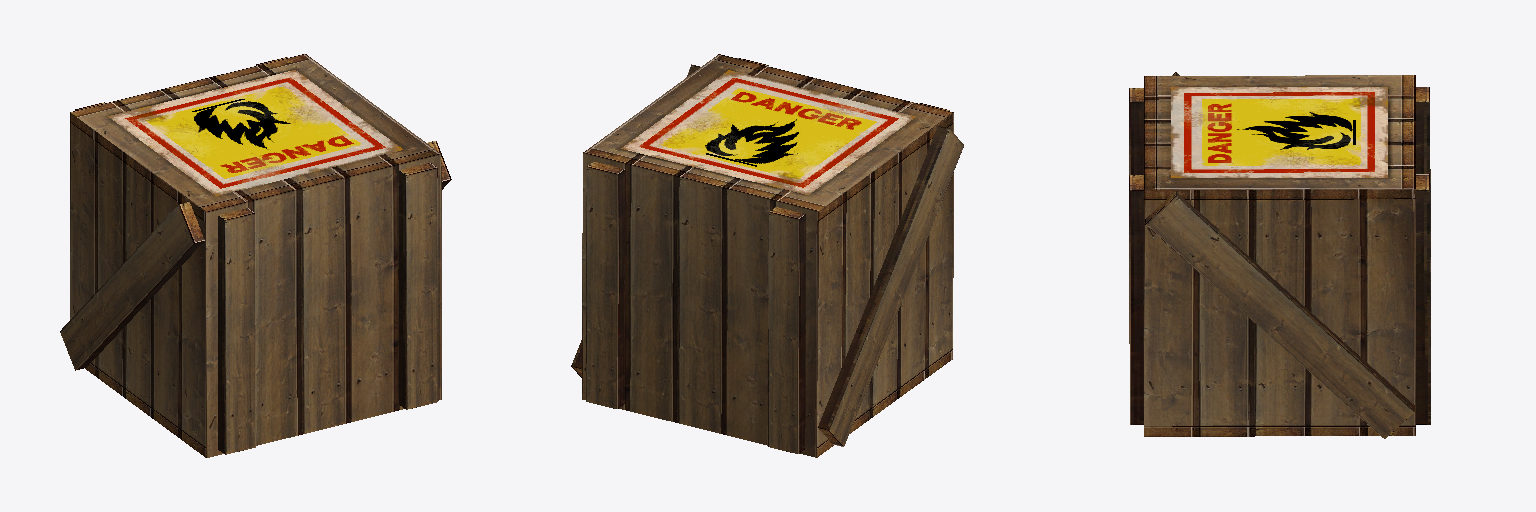
3 renders of one model, left to right at view 1: azimuth 30°, elevation 25°; view 2: azimuth 150°, elevation 25°; view 3: azimuth 270°, elevation 25°, orthographic.
Visible parts, largest first — view 1: polygon0; view 2: polygon0; view 3: polygon0.
Part boxes in pixels (x1,y1,x2,y2): polygon0: (60, 54, 451, 457); polygon0: (571, 54, 963, 457); polygon0: (1129, 72, 1430, 438).
Bounding box in the file's own units: 0.7928 × 0.7267 × 0.8013.
Materials: 1 (1 with a texture image).